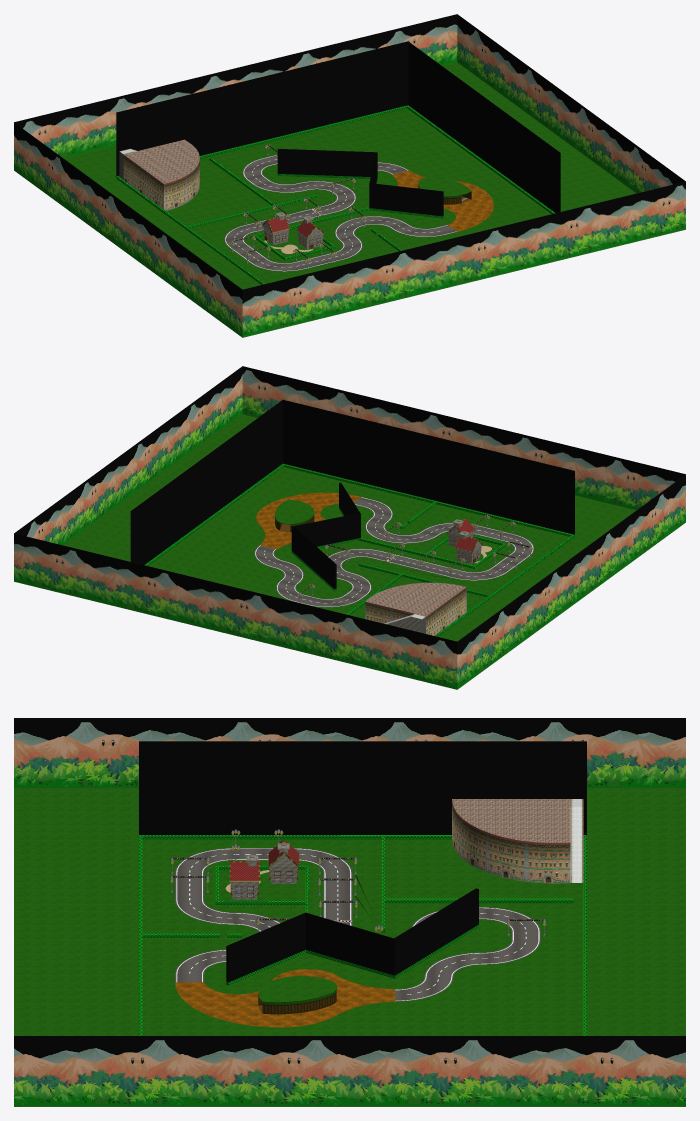
3 views of the same model, one above another, from view 1: azimuth 30°, elevation 25°; view 2: azimuth 150°, elevation 25°; view 3: azimuth 270°, elevation 25° (orthographic). The views are drawn at different scales.
Parts seen in each view (by area): view 1: Model-SKP--df.001, Model-SKP--Groundcover_Sand_Smooth.001, Model-SKP--Material2.001, Model-SKP--Groundcover_Sand_Smooth1.001, Model-SKP--1_5.001, Model-SKP--Roofing_Shingles_Variable.001, Model-SKP--Vegetation_Grass_Artificial2.001, Model-SKP--road1.001, Model-SKP--01.001, Model-COM-Komponente_2-123194-01.001, Model-SKP--MarioHouseBrick.001, Model-SKP--Metal_Seamed.001; view 2: Model-SKP--df.001, Model-SKP--Material2.001, Model-SKP--Groundcover_Sand_Smooth.001, Model-SKP--Groundcover_Sand_Smooth1.001, Model-SKP--1_5.001, Model-SKP--Roofing_Shingles_Variable.001, Model-SKP--Vegetation_Grass_Artificial2.001, Model-SKP--road1.001, Model-SKP--01.001, Model-SKP--MarioHouseBrick.001, Model-COM-Komponente_2-123194-01.001, Model-SKP--Metal_Seamed.001; view 3: Model-SKP--Groundcover_Sand_Smooth.001, Model-SKP--df.001, Model-SKP--Material2.001, Model-SKP--Groundcover_Sand_Smooth1.001, Model-SKP--1_5.001, Model-SKP--Vegetation_Grass_Artificial2.001, Model-COM-Komponente_2-123194-01.001, Model-SKP--Roofing_Shingles_Variable.001, Model-SKP--road1.001, Model-SKP--MarioHouseBrick.001, Model-COM-Komponente_1-118771-5.001, Model-SKP--2_7.001 (+3 smaller).
Part boxes in pixels (box(x1,y1,x2,y2)): Model-SKP--df.001: box(14, 14, 685, 337); Model-SKP--Groundcover_Sand_Smooth.001: box(63, 62, 636, 289); Model-SKP--Material2.001: box(116, 41, 560, 216); Model-SKP--Groundcover_Sand_Smooth1.001: box(224, 154, 456, 271); Model-SKP--1_5.001: box(116, 105, 555, 284); Model-SKP--Roofing_Shingles_Variable.001: box(124, 139, 199, 183); Model-SKP--Vegetation_Grass_Artificial2.001: box(392, 170, 493, 231); Model-SKP--road1.001: box(225, 155, 456, 271); Model-SKP--01.001: box(123, 155, 163, 208); Model-COM-Komponente_2-123194-01.001: box(164, 158, 199, 210); Model-SKP--MarioHouseBrick.001: box(263, 212, 323, 249); Model-SKP--Metal_Seamed.001: box(230, 144, 366, 269); Model-SKP--df.001: box(14, 366, 685, 689); Model-SKP--Material2.001: box(130, 400, 574, 588); Model-SKP--Groundcover_Sand_Smooth.001: box(63, 414, 636, 641); Model-SKP--Groundcover_Sand_Smooth1.001: box(254, 497, 534, 607); Model-SKP--1_5.001: box(144, 463, 574, 636); Model-SKP--Roofing_Shingles_Variable.001: box(365, 582, 465, 616); Model-SKP--Vegetation_Grass_Artificial2.001: box(256, 492, 360, 549); Model-SKP--road1.001: box(255, 497, 533, 606); Model-SKP--01.001: box(426, 587, 466, 635); Model-SKP--MarioHouseBrick.001: box(387, 519, 481, 632); Model-COM-Komponente_2-123194-01.001: box(365, 601, 414, 623); Model-SKP--Metal_Seamed.001: box(297, 515, 532, 603); Model-SKP--Groundcover_Sand_Smooth.001: box(14, 789, 685, 1035); Model-SKP--df.001: box(14, 718, 685, 1106); Model-SKP--Material2.001: box(139, 741, 586, 982); Model-SKP--Groundcover_Sand_Smooth1.001: box(175, 848, 540, 1001); Model-SKP--1_5.001: box(139, 835, 586, 1035); Model-SKP--Vegetation_Grass_Artificial2.001: box(175, 969, 395, 1027); Model-COM-Komponente_2-123194-01.001: box(452, 800, 570, 883); Model-SKP--Roofing_Shingles_Variable.001: box(452, 799, 570, 842); Model-SKP--road1.001: box(176, 848, 539, 1000); Model-SKP--MarioHouseBrick.001: box(231, 843, 297, 899); Model-COM-Komponente_1-118771-5.001: box(570, 806, 583, 882); Model-SKP--2_7.001: box(258, 988, 337, 1014).
Size of the model in its own units: 80746 by 11476 by 72119.
28 materials, 27 textured.
